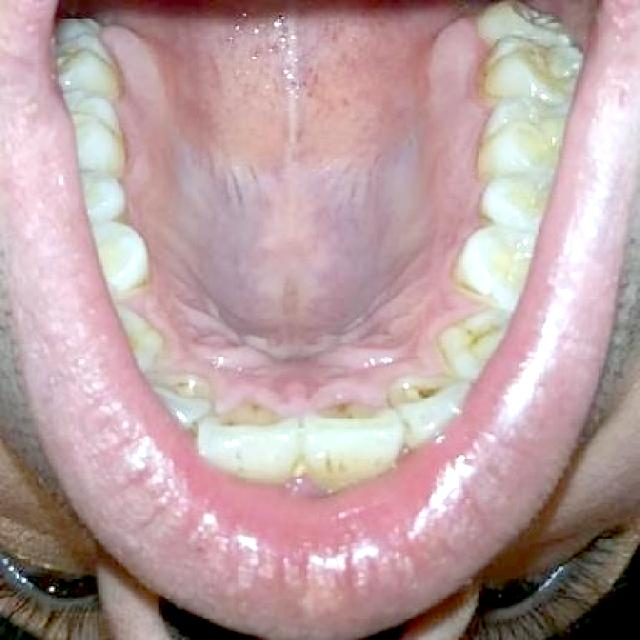Plaque: (458, 318, 504, 363), (399, 373, 443, 408)
